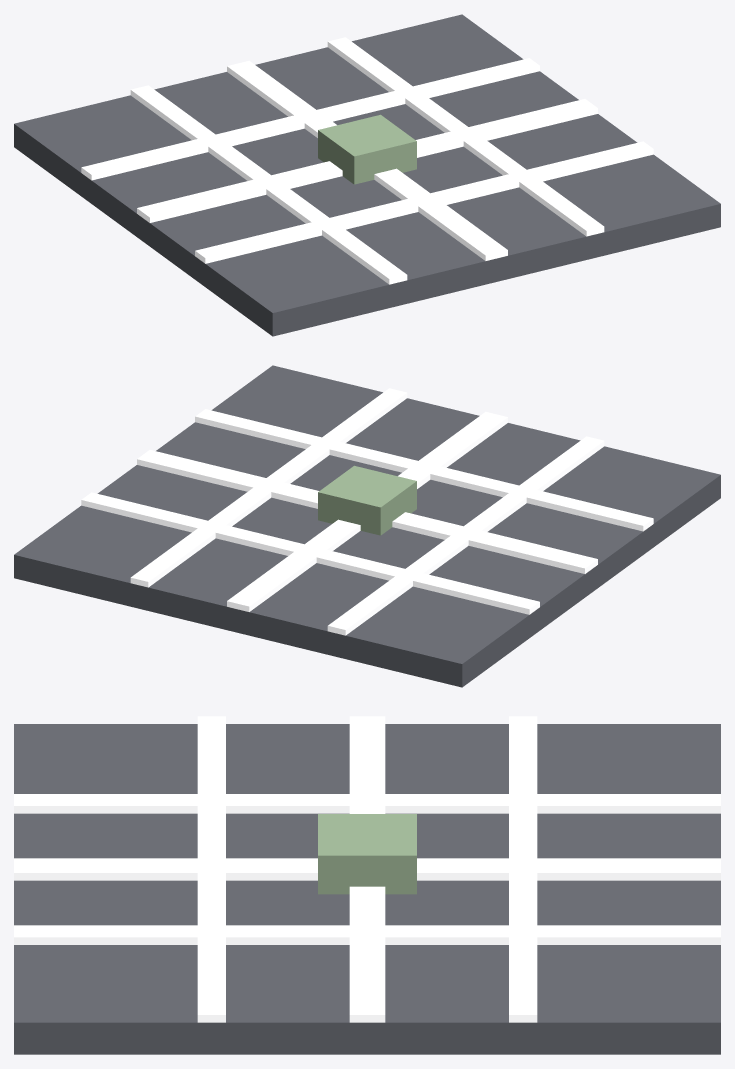
Rendered from road_cross_2.glb.
3 views of the same model, one above another, from view 1: azimuth 30°, elevation 25°; view 2: azimuth 150°, elevation 25°; view 3: azimuth 270°, elevation 25° (orthographic). The views are drawn at different scales.
Visible parts, largest first — view 1: road_cross_2; view 2: road_cross_2; view 3: road_cross_2.
Part boxes in pixels (x1,y1,x2,y2): road_cross_2: (14,14,720,336); road_cross_2: (14,365,720,687); road_cross_2: (14,716,720,1054).
Bounding box in the file's own units: 1 × 0.11 × 1.
